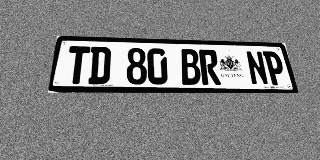0: (147, 48, 168, 85)
8: (126, 47, 147, 84)
B: (180, 49, 202, 85)
D: (88, 47, 111, 84)
N: (245, 51, 269, 85)
P: (262, 51, 288, 85)
R: (198, 49, 221, 85)
T: (65, 46, 90, 84)
